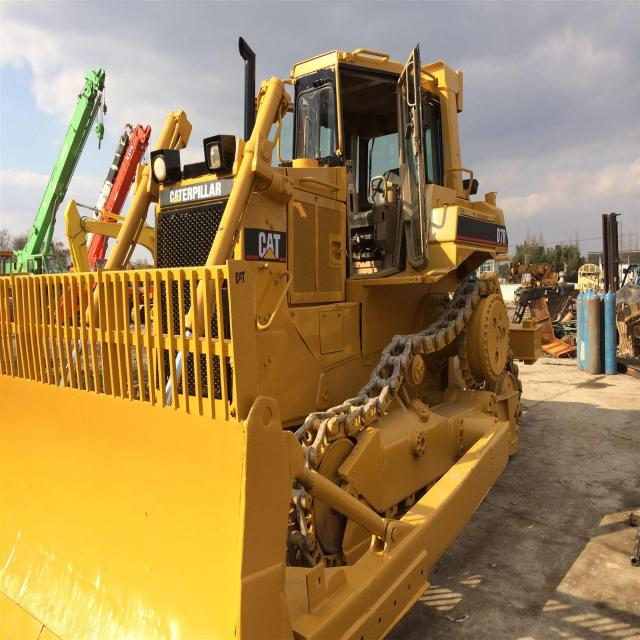buldozerpayloadergrader: (28, 32, 554, 640)
